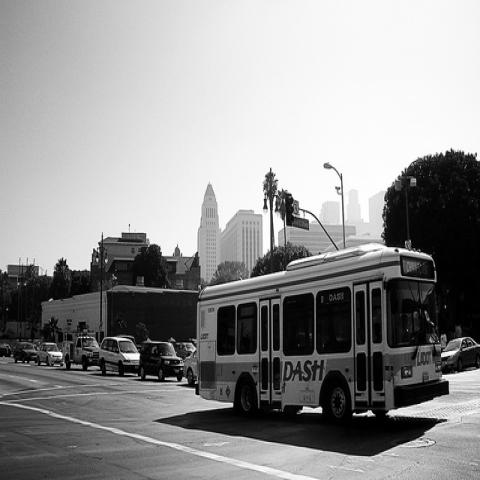bus: (199, 242, 448, 425)
car: (138, 341, 184, 381), (98, 336, 141, 375), (440, 336, 480, 372), (36, 343, 64, 366), (182, 348, 198, 386), (12, 340, 36, 363), (175, 342, 196, 358)
truck: (64, 334, 99, 371)
